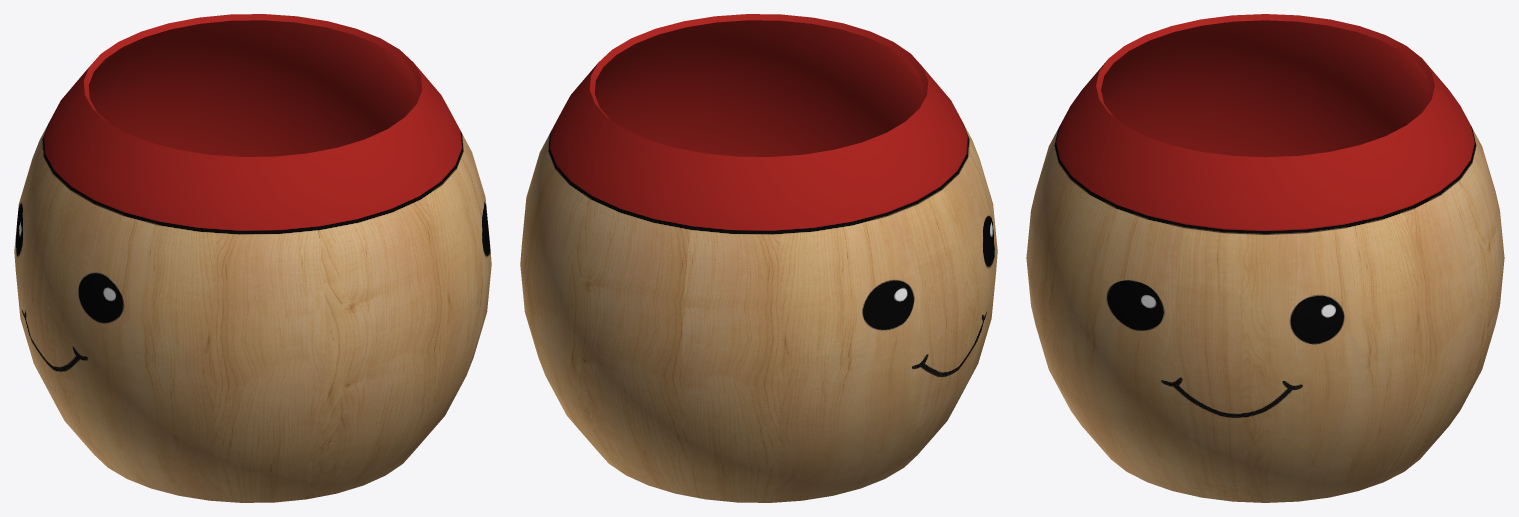
The model's file is Face vase.FBX.
3 renders of one model, left to right at view 1: azimuth 30°, elevation 25°; view 2: azimuth 150°, elevation 25°; view 3: azimuth 270°, elevation 25°, orthographic.
Parts seen in each view (by area): view 1: Face vase; view 2: Face vase; view 3: Face vase.
Part boxes in pixels (x1,y1,x2,y2): Face vase: (14,14,491,502); Face vase: (520,14,997,502); Face vase: (1026,14,1504,502).
Bounding box in the file's own units: 29.36 × 23.48 × 29.36.
Materials: 1 (1 with a texture image).
